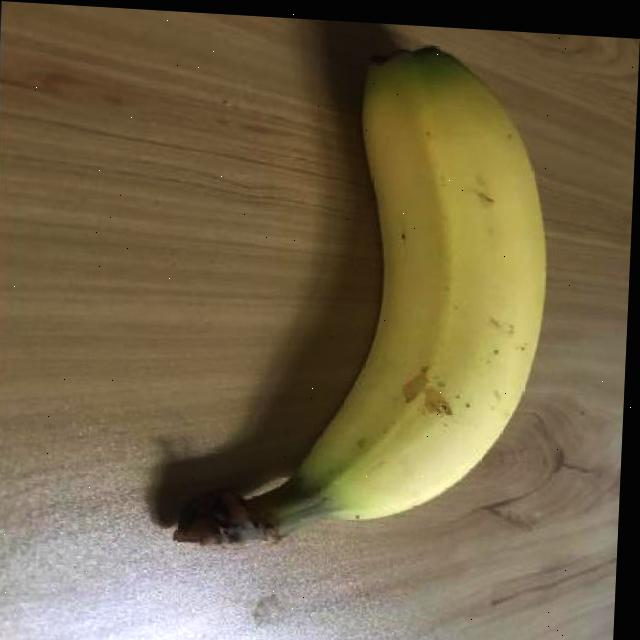banana: (178, 33, 558, 572)
